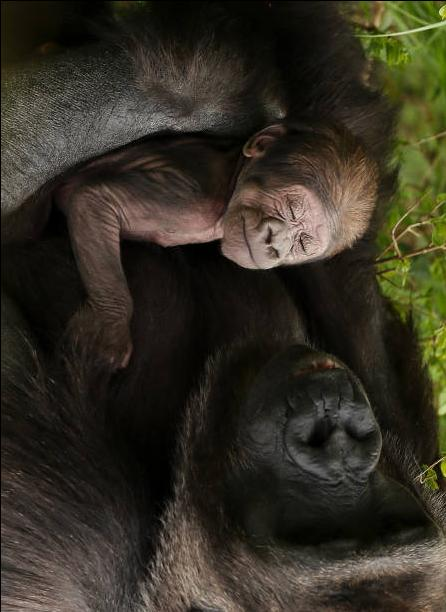gorille_Autres: (1, 0, 441, 611)
